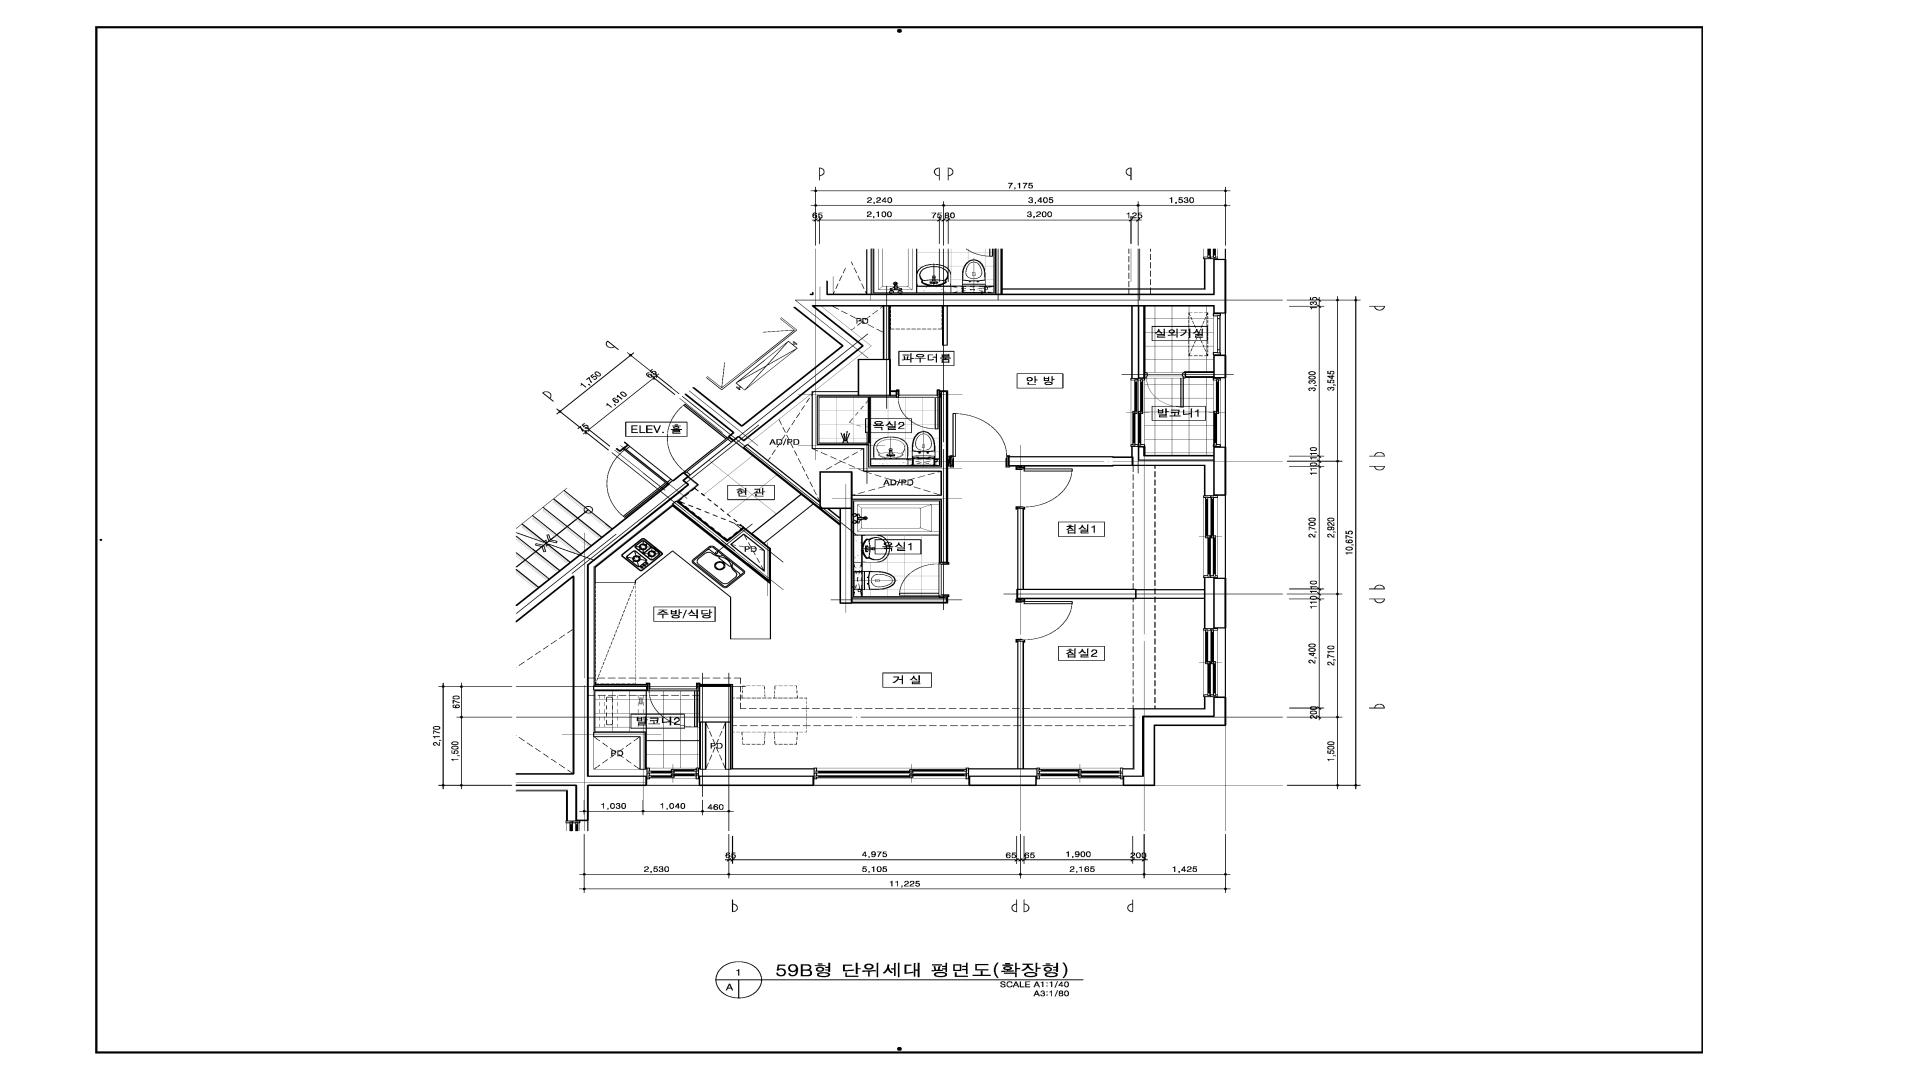door: (642, 403, 733, 476), (581, 445, 672, 517), (948, 413, 1009, 467), (1015, 466, 1073, 509), (1015, 599, 1073, 642), (648, 683, 699, 728), (896, 389, 940, 429), (899, 562, 949, 597), (1145, 372, 1185, 408), (849, 398, 871, 443)
wall: (685, 294, 1226, 442), (742, 307, 948, 604), (514, 472, 690, 786), (1017, 509, 1204, 599), (1123, 697, 1227, 786), (672, 500, 771, 584), (699, 684, 733, 769), (594, 732, 647, 770), (1010, 456, 1134, 466), (699, 776, 815, 786), (732, 535, 764, 570), (1138, 447, 1213, 461), (1017, 642, 1024, 769), (1213, 447, 1227, 496), (969, 776, 1037, 786), (1213, 579, 1226, 628), (1138, 307, 1146, 378), (594, 684, 648, 691), (1213, 355, 1226, 378), (941, 307, 947, 346), (1185, 371, 1214, 378)
window: (814, 768, 968, 786), (1204, 496, 1225, 578), (1203, 629, 1226, 697), (1037, 768, 1123, 786), (1131, 378, 1145, 447), (647, 768, 699, 786), (1213, 378, 1226, 447), (1213, 314, 1226, 355)
